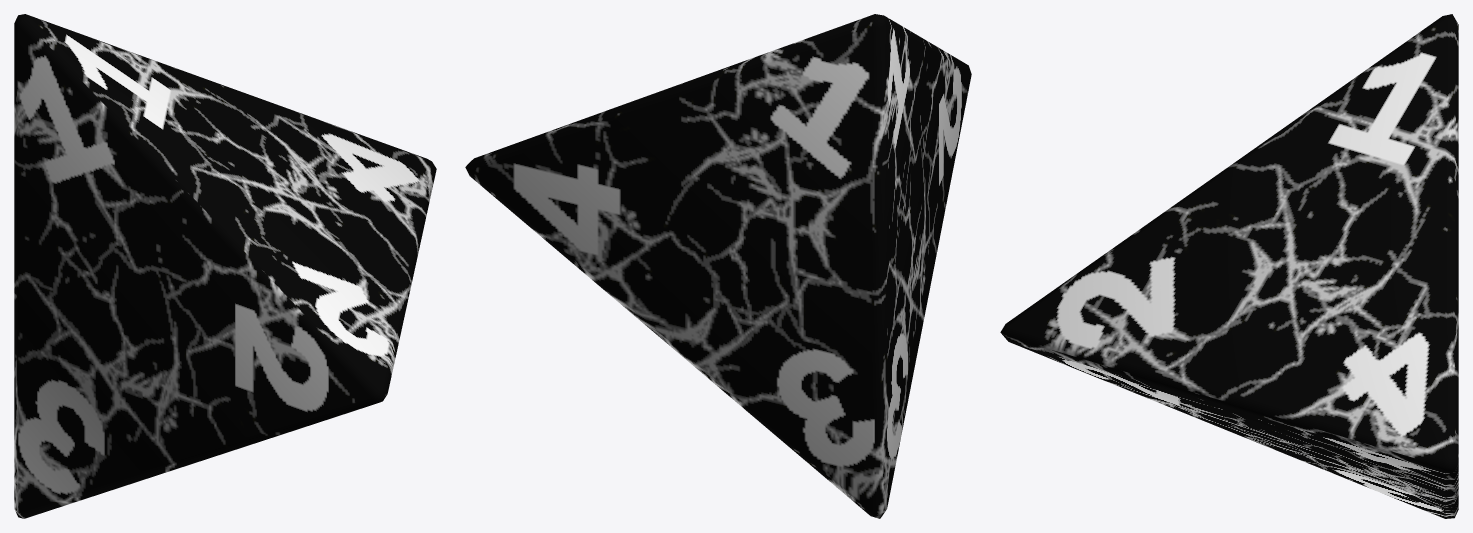
3 renders of one model, left to right at view 1: azimuth 30°, elevation 25°; view 2: azimuth 150°, elevation 25°; view 3: azimuth 270°, elevation 25°, orthographic.
Parts seen in each view (by area): view 1: 4white_4White_0; view 2: 4white_4White_0; view 3: 4white_4White_0.
Boxes of the visible parts, bbox=[...] form: 4white_4White_0: bbox=[14, 14, 436, 518]; 4white_4White_0: bbox=[465, 14, 971, 518]; 4white_4White_0: bbox=[1000, 14, 1458, 518].
Bounding box in the file's own units: 1.35 × 1.55 × 1.28.
1 material, 1 textured.
